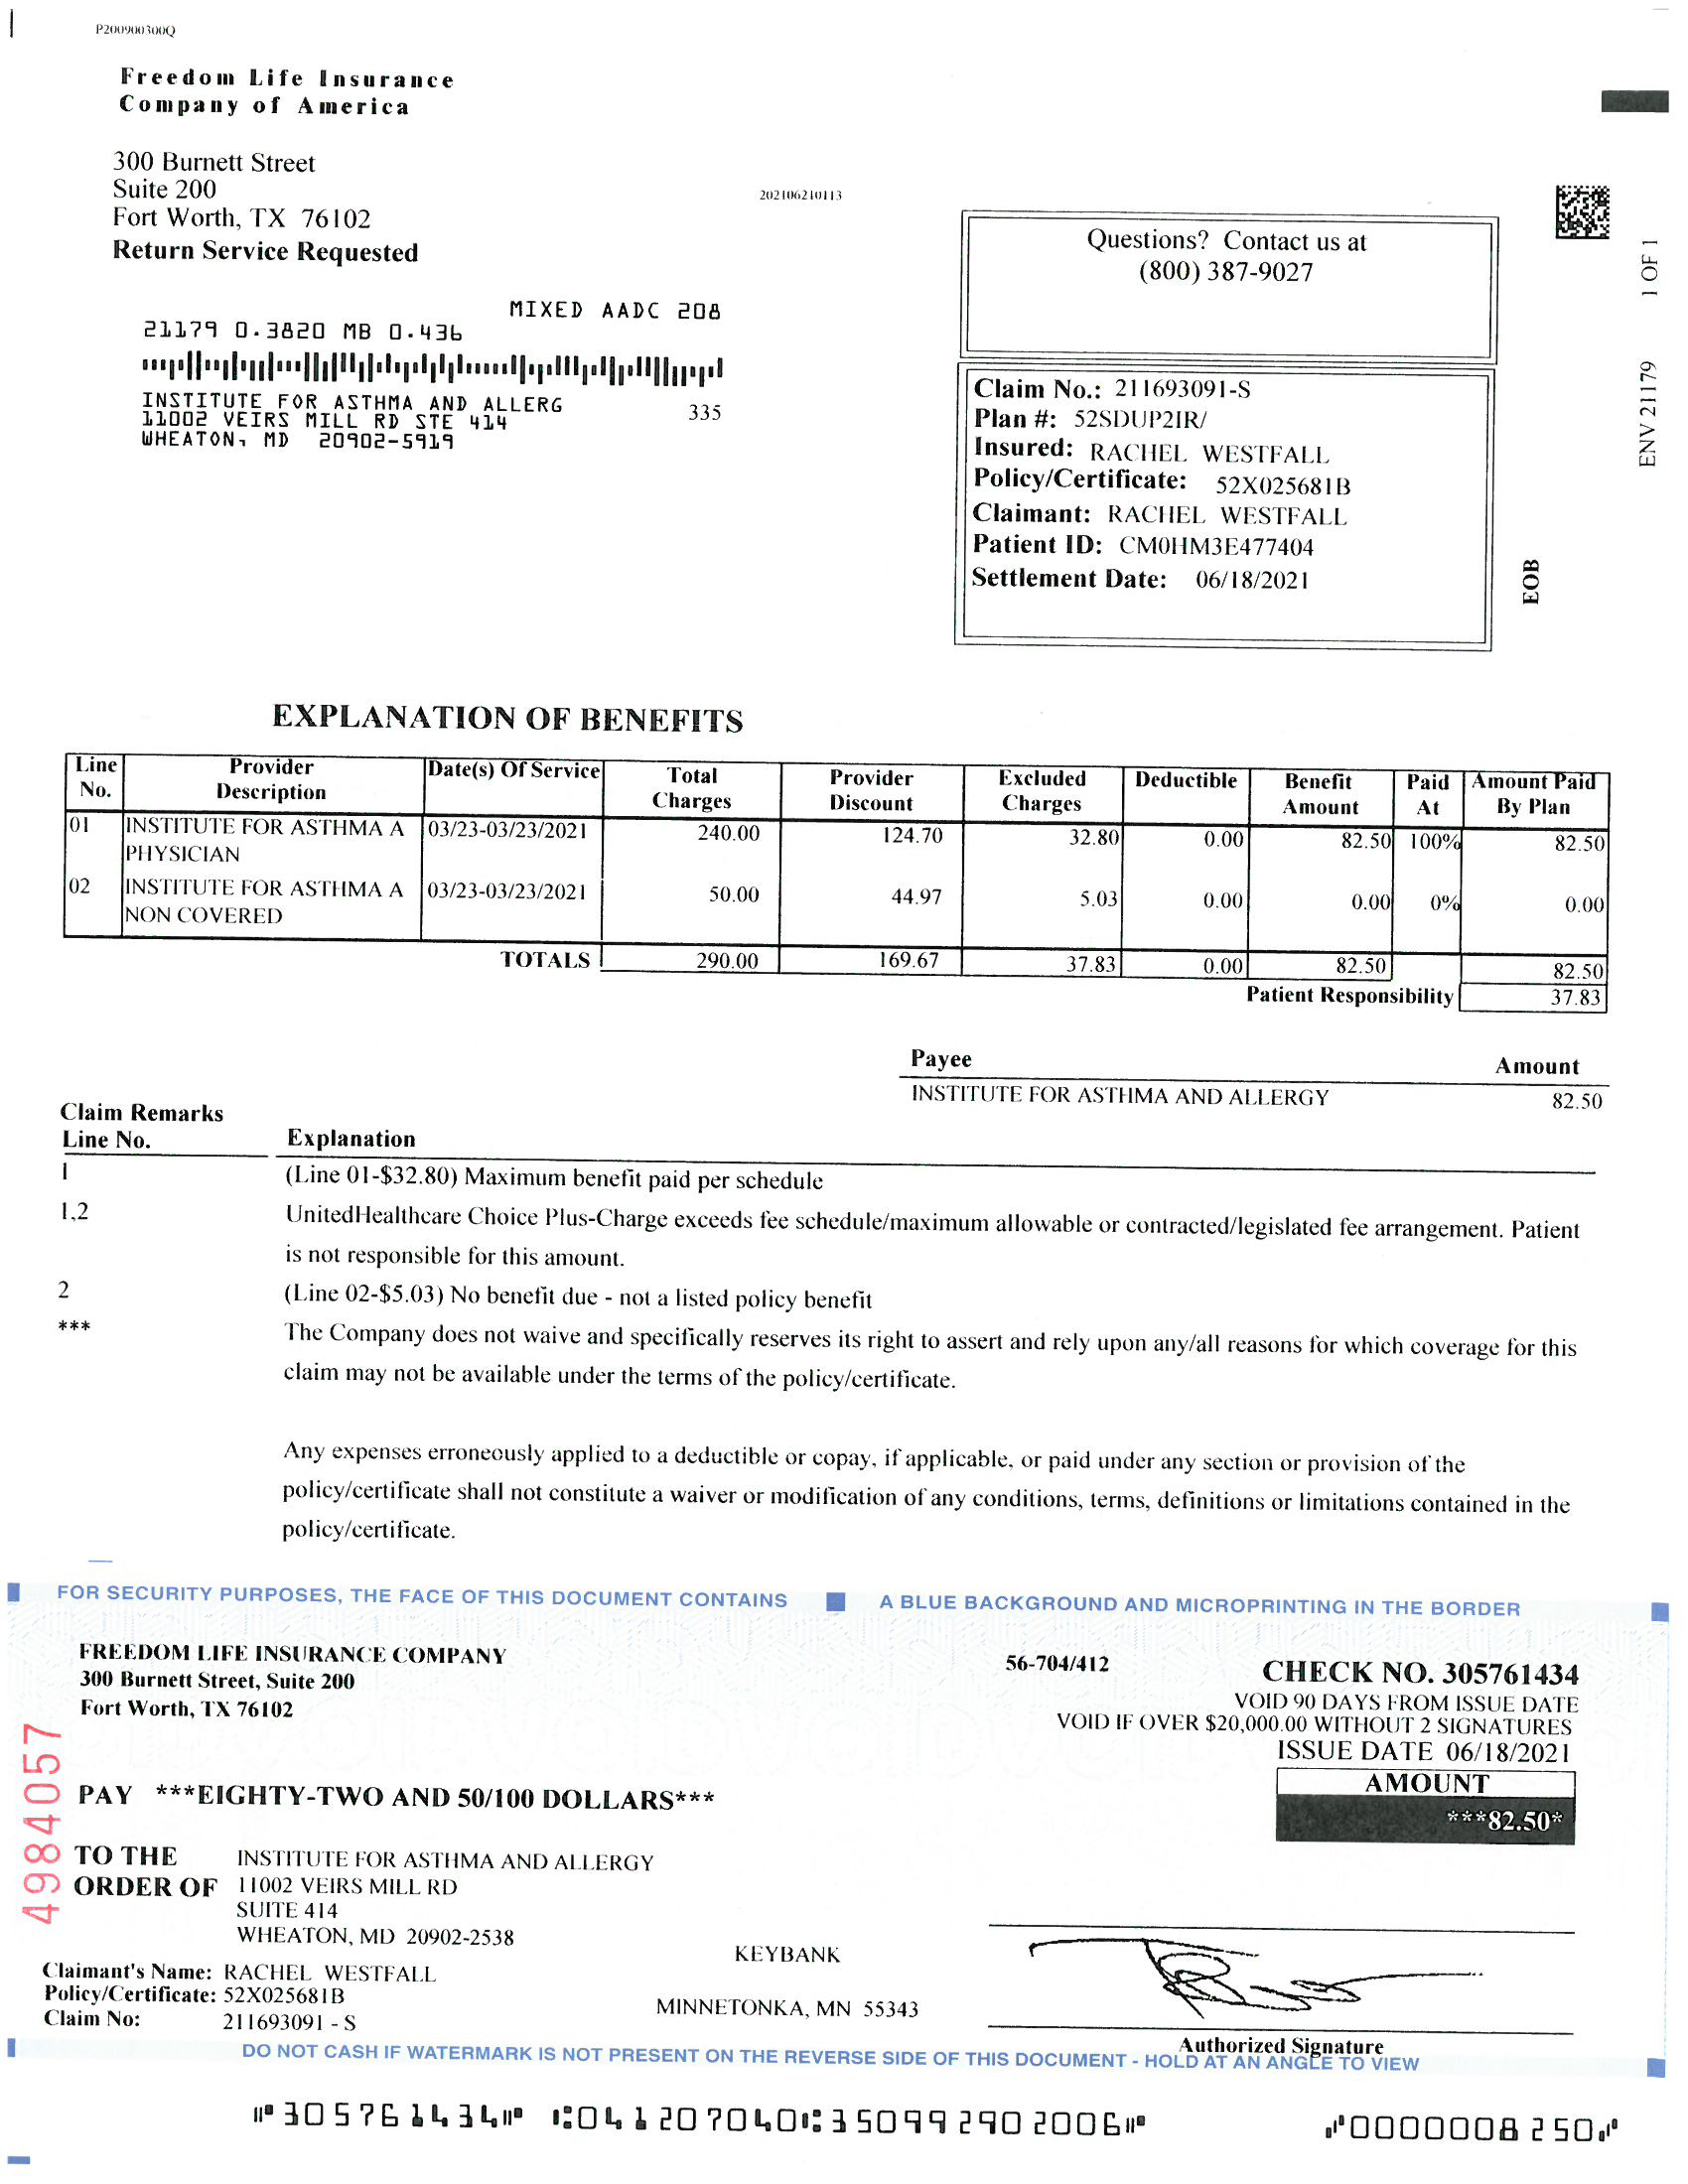data: (950, 365, 1507, 658)
table: (48, 732, 1633, 986)
